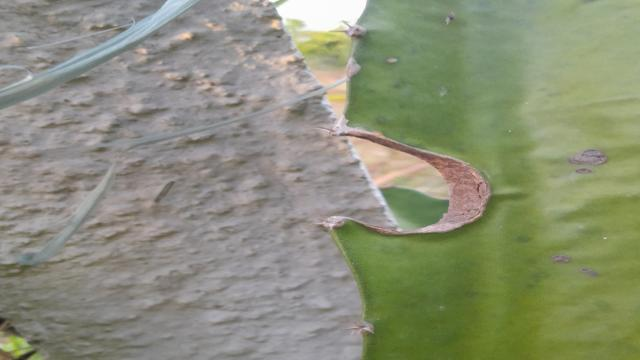stemcanker: (568, 145, 610, 178), (544, 249, 577, 268), (575, 265, 601, 279), (379, 53, 404, 66), (444, 9, 459, 30)
